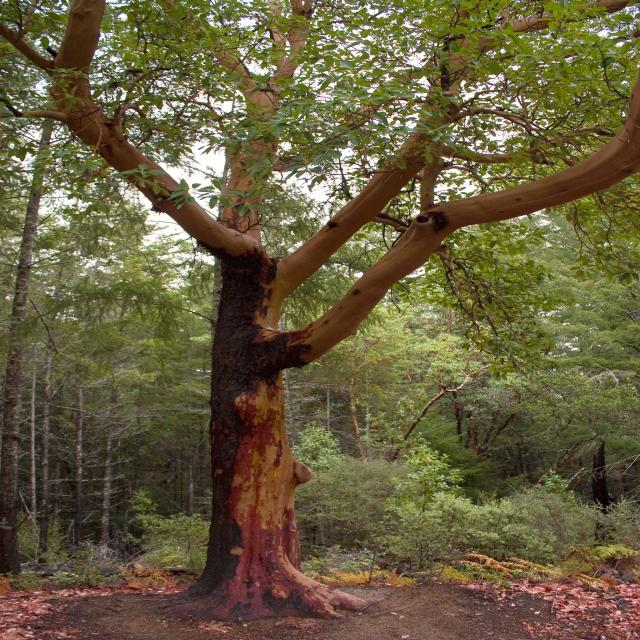Arbutus menziesii: (0, 0, 640, 627)
